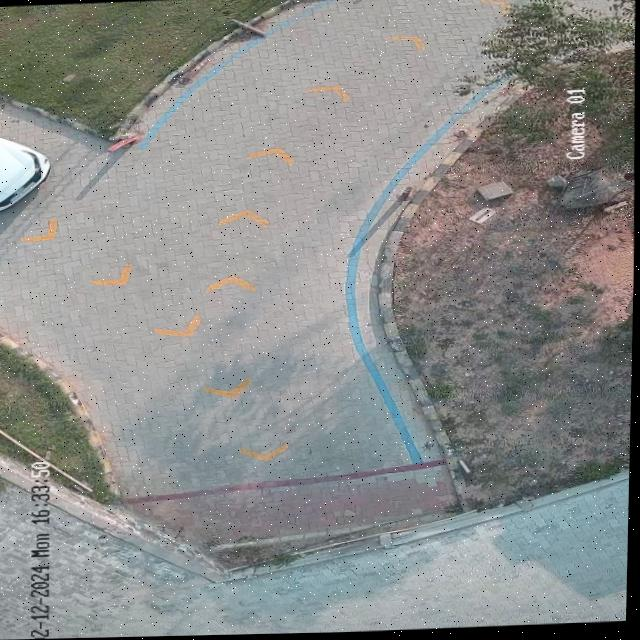car: (0, 135, 54, 210)
